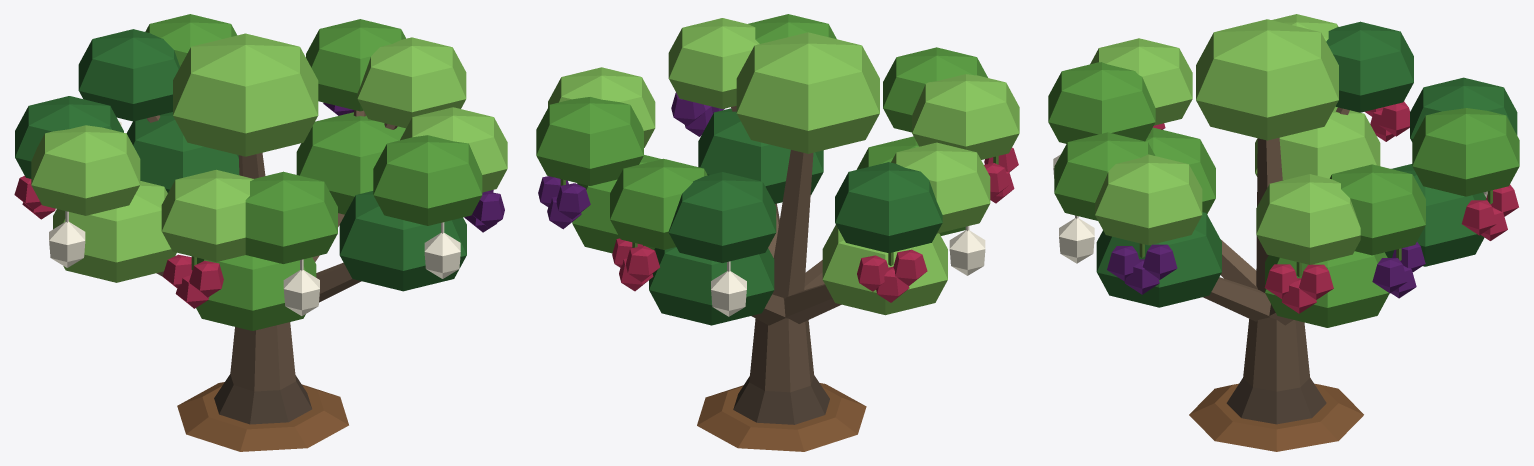
Rendered from mulberry-tree-1x1.glb.
3 renders of one model, left to right at view 1: azimuth 30°, elevation 25°; view 2: azimuth 150°, elevation 25°; view 3: azimuth 270°, elevation 25°, orthographic.
Parts seen in each view (by area): view 1: mulberry-tree-1x1; view 2: mulberry-tree-1x1; view 3: mulberry-tree-1x1.
Part boxes in pixels (box(x1,y1,x2,y2)): mulberry-tree-1x1: box(14, 14, 507, 451); mulberry-tree-1x1: box(536, 14, 1019, 451); mulberry-tree-1x1: box(1048, 14, 1519, 451).
Size of the model in its own units: 0.9734 by 0.7993 by 0.9133.
Materials: 1 (1 with a texture image).
